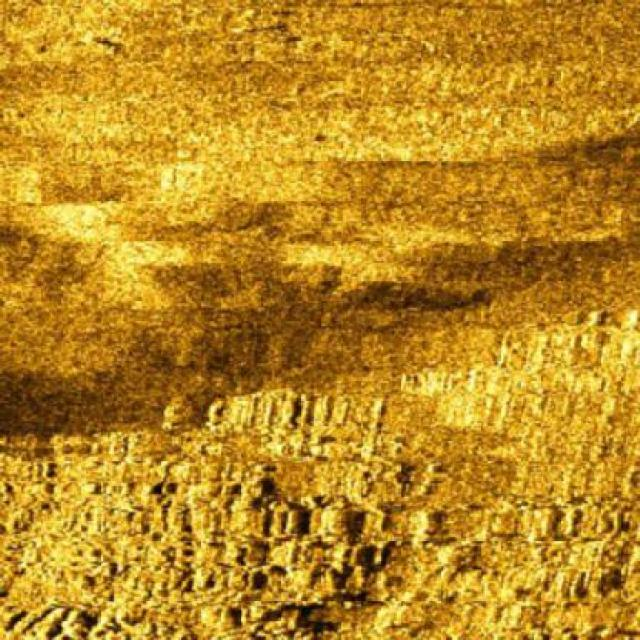bedrock group: (0, 306, 638, 638)
